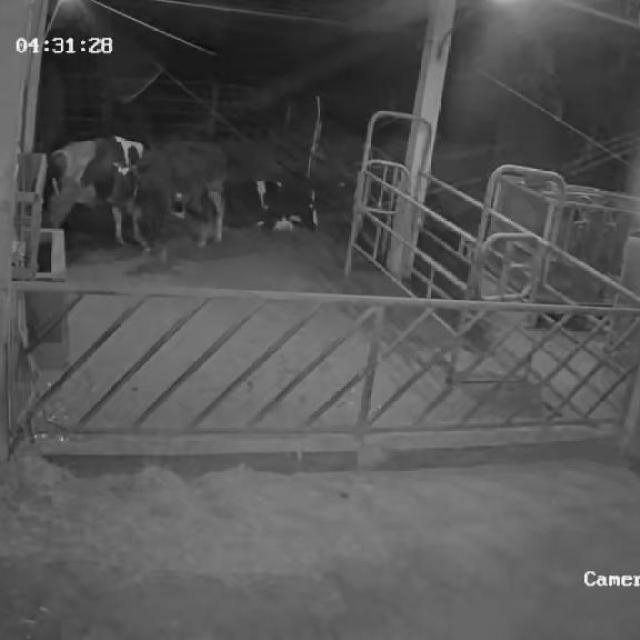lying down: (230, 176, 320, 237)
standing: (101, 140, 226, 266), (48, 132, 144, 248)
